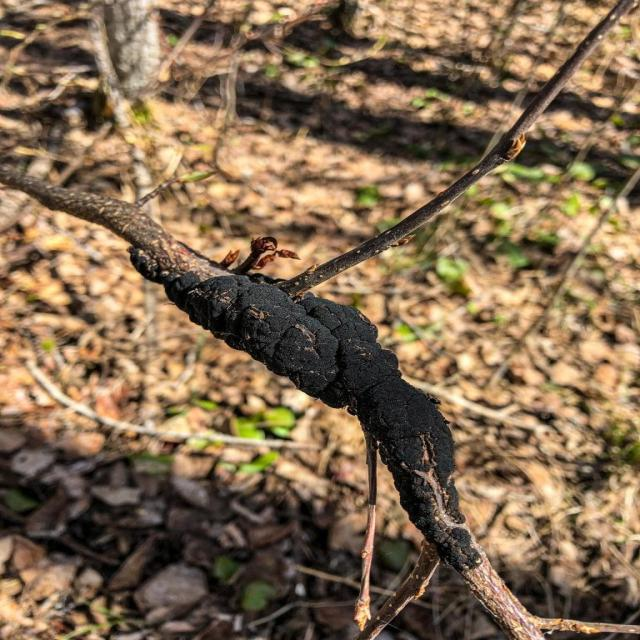Black_knot: (126, 240, 483, 572)
